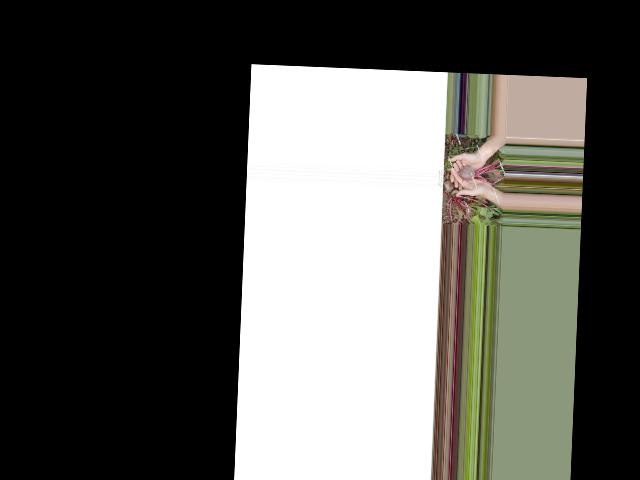beet: (457, 156, 503, 186)
